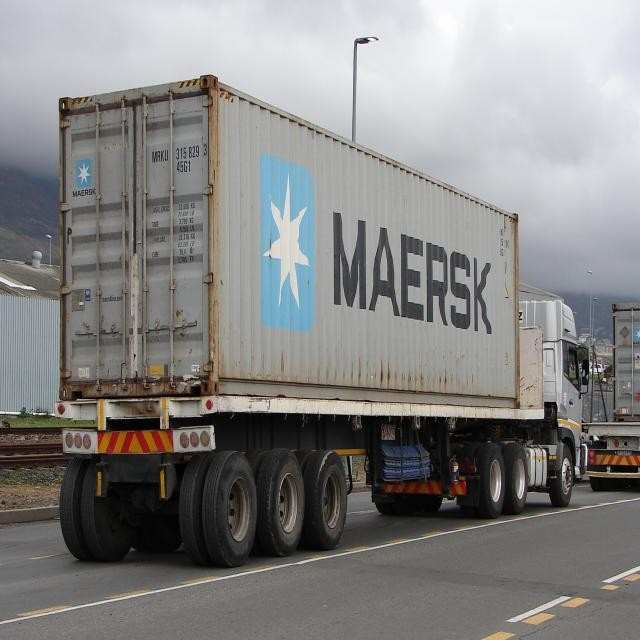truck: (46, 72, 588, 564), (596, 301, 640, 483)
